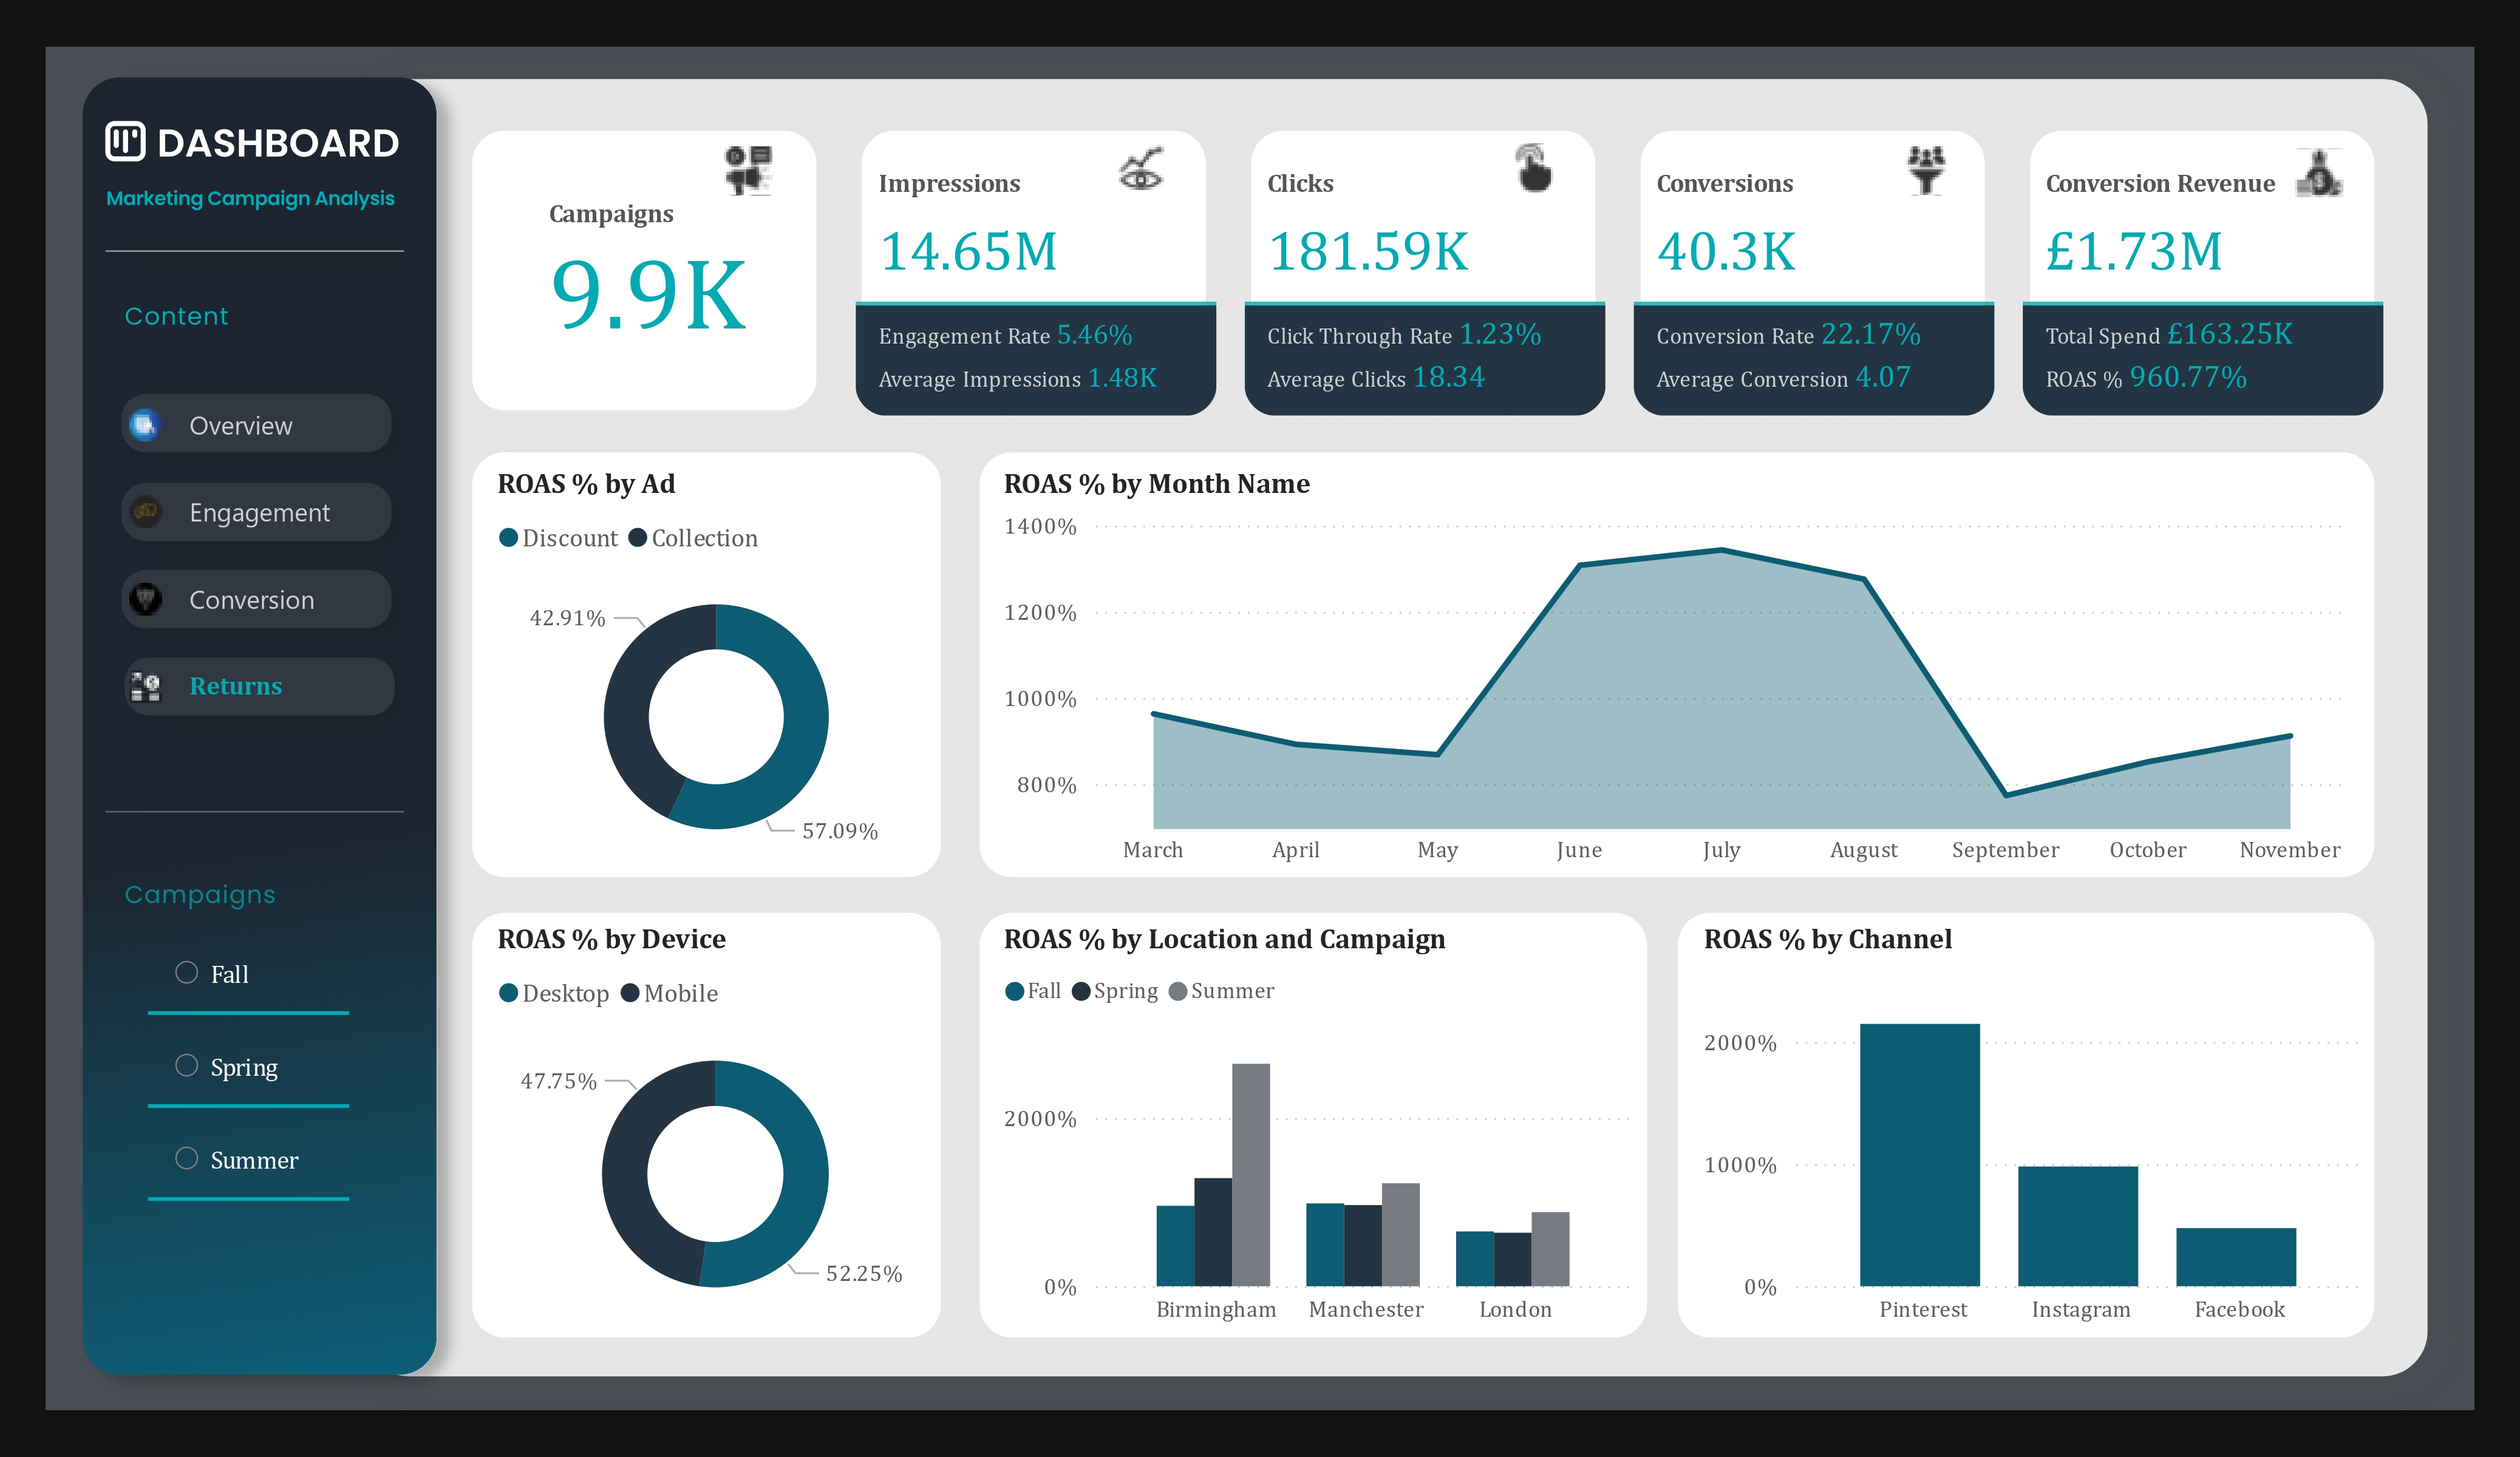

Layout of this report page (visuals, bound fields, positions):
{"tool":"powerbi","page":{"name":"Returns","canvas":[1280,720],"ordinal":3},"visuals":[{"type":"donutChart","fields":{"Category":["marketing.Ad"],"Y":["_measures.ROAS %"]},"box":[232.9,221.9,240.6,217.7],"z":0},{"type":"clusteredColumnChart","fields":{"Category":["marketing.Channel"],"Y":["_measures.ROAS %"]},"box":[868.9,462.2,358.9,220],"z":1000},{"type":"donutChart","fields":{"Category":["marketing.Device"],"Y":["_measures.ROAS %"]},"box":[233.3,462.2,240,220],"z":2000},{"type":"areaChart","title":"ROAS % by Month Name","fields":{"Category":["Calendar.Month Name"],"Y":["_measures.ROAS %"]},"box":[499.8,221.9,720,217.7],"z":3000},{"type":"clusteredColumnChart","fields":{"Category":["marketing.Location"],"Series":["marketing.Campaign"],"Y":["_measures.ROAS %"]},"box":[500,462.2,343.3,220],"z":4000},{"type":"pageNavigator","box":[76.2,185.5,97.4,166.9],"z":5000},{"type":"advancedSlicerVisual","fields":{"Values":["marketing.Campaign"]},"box":[48.5,462.2,116.4,152.6],"z":6000},{"type":"cardVisual","fields":{"Data":["_measures.Campaigns","_measures.Total Impressions","_measures.Total Clicks","_measures.Total Conversions","_measures.Total Conversion Revenue"]},"box":[216.8,39.8,1024.1,160.1],"z":7000}]}

Visuals, with their boxes in screenshot pixels (x1, y1, x2, y2):
donutChart - marketing.Ad x _measures.ROAS %: (left=488, top=466, right=944, bottom=880)
clusteredColumnChart - marketing.Channel x _measures.ROAS %: (left=1694, top=922, right=2375, bottom=1340)
donutChart - marketing.Device x _measures.ROAS %: (left=488, top=922, right=944, bottom=1340)
"ROAS % by Month Name" areaChart: (left=994, top=466, right=2360, bottom=880)
clusteredColumnChart - marketing.Location x marketing.Campaign: (left=995, top=922, right=1646, bottom=1340)
pageNavigator: (left=190, top=398, right=375, bottom=714)
advancedSlicerVisual - marketing.Campaign: (left=138, top=922, right=358, bottom=1212)
cardVisual - _measures.Campaigns x _measures.Total Impressions: (left=457, top=121, right=2400, bottom=425)
